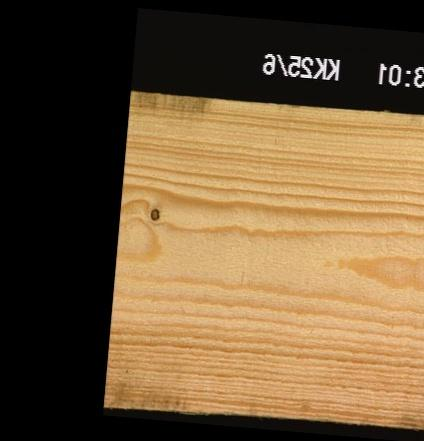dry_knot: (147, 203, 162, 222)
